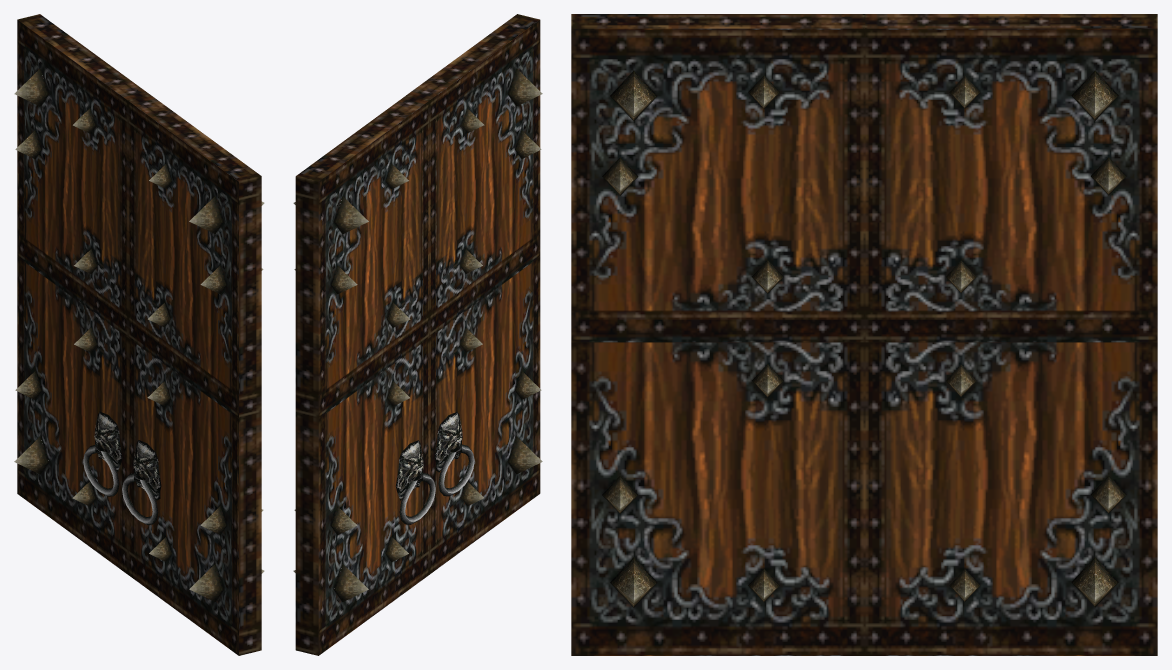
The model's file is INST_SWORDLIGHT_TROLLDOORS_ANI1.fbx.
The picture shows the model from 3 angles, left to right: view 1: azimuth 30°, elevation 25°; view 2: azimuth 150°, elevation 25°; view 3: azimuth 270°, elevation 25°; orthographic projection. The views are drawn at different scales.
Parts seen in each view (by area): view 1: INST_SWORDLIGHT_TROLLDOORS_ANI1; view 2: INST_SWORDLIGHT_TROLLDOORS_ANI1; view 3: INST_SWORDLIGHT_TROLLDOORS_ANI1.
Boxes of the visible parts, x1,y1,x2,y2 form: INST_SWORDLIGHT_TROLLDOORS_ANI1: [14, 14, 264, 655]; INST_SWORDLIGHT_TROLLDOORS_ANI1: [293, 14, 542, 655]; INST_SWORDLIGHT_TROLLDOORS_ANI1: [571, 14, 1157, 655].
Size of the model in its own units: 13737 by 81452 by 69000.
4 materials, 4 textured.
